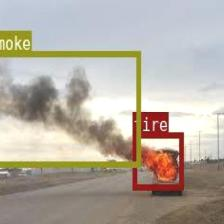fire: (132, 132, 182, 188)
smoke: (0, 49, 139, 165)
